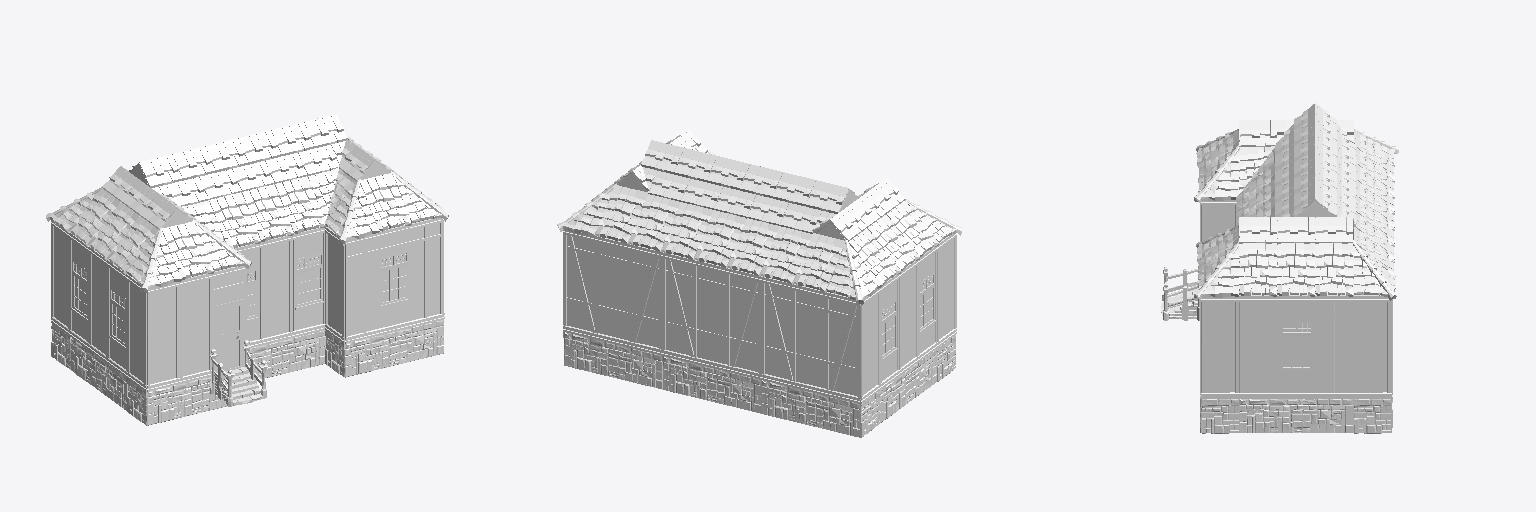
Rendered from house_10.obj.
The picture shows the model from 3 angles: view 1: azimuth 30°, elevation 25°; view 2: azimuth 150°, elevation 25°; view 3: azimuth 270°, elevation 25°; orthographic projection.
Size of the model in its own units: 9.41 by 6.09 by 6.27.